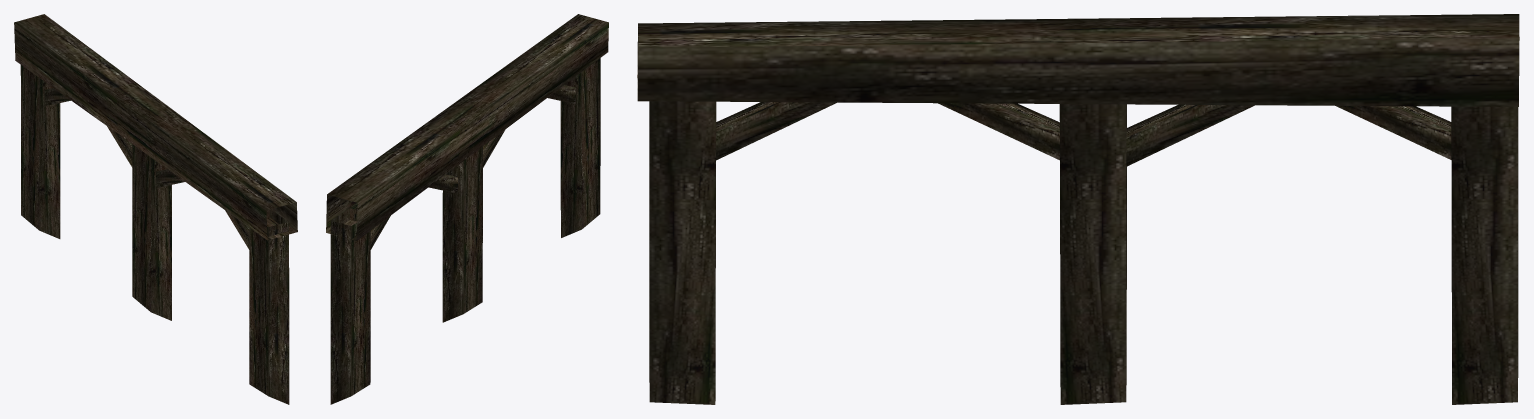
Rendered from NC_PLANKS_V01.glb.
3 views of the same model, side by side, from view 1: azimuth 30°, elevation 25°; view 2: azimuth 150°, elevation 25°; view 3: azimuth 270°, elevation 25° (orthographic). The views are drawn at different scales.
Parts seen in each view (by area): view 1: Mesh; view 2: Mesh; view 3: Mesh.
Part boxes in pixels (x1=…): Mesh: x1=14, y1=14, x2=297, y2=404; Mesh: x1=326, y1=14, x2=608, y2=404; Mesh: x1=637, y1=14, x2=1519, y2=404.
Size of the model in its own units: 0.6138 by 3.78 by 8.18.
1 material, 1 textured.
